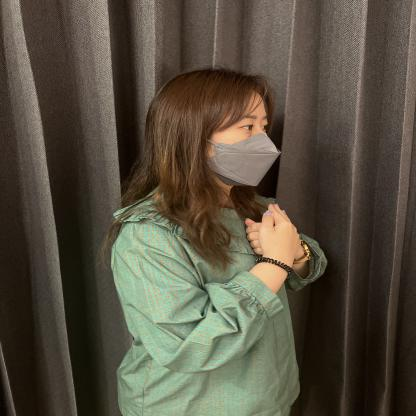Grieve: (79, 154, 388, 336)
